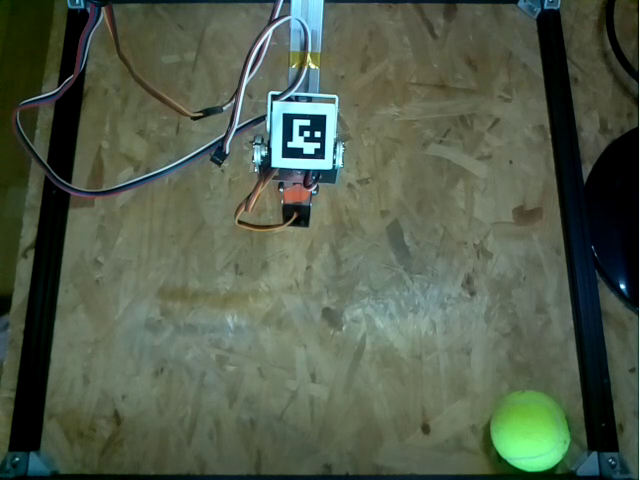tennis_ball: (491, 387, 571, 472)
